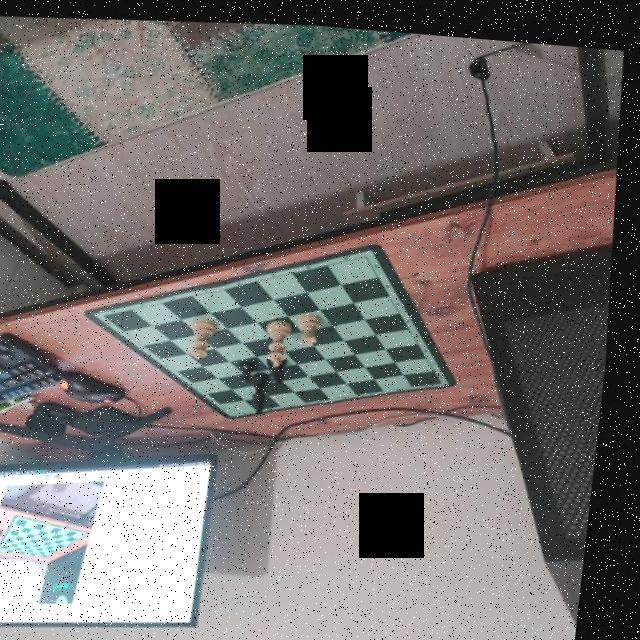chess-table-corners: (101, 307, 122, 321), (363, 242, 381, 258), (440, 368, 460, 382), (236, 404, 251, 416)
